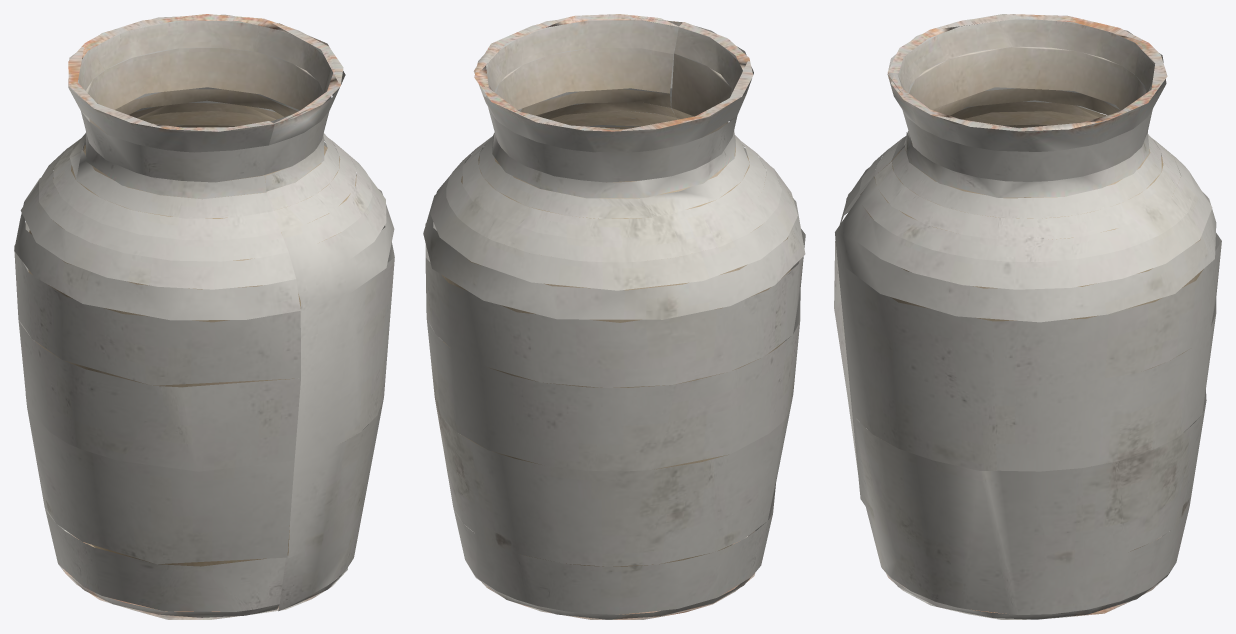
File: fu_vase_ceramic.fbx
3 renders of one model, left to right at view 1: azimuth 30°, elevation 25°; view 2: azimuth 150°, elevation 25°; view 3: azimuth 270°, elevation 25°, orthographic.
Parts seen in each view (by area): view 1: fu_vase_ceramic_LOD0; view 2: fu_vase_ceramic_LOD0; view 3: fu_vase_ceramic_LOD0.
Boxes of the visible parts, x1=… form: fu_vase_ceramic_LOD0: x1=14, y1=14, x2=394, y2=619; fu_vase_ceramic_LOD0: x1=423, y1=14, x2=805, y2=619; fu_vase_ceramic_LOD0: x1=834, y1=14, x2=1221, y2=619.
Size of what is drawn, in the model's own units: 0.2194 by 0.3092 by 0.2212.
